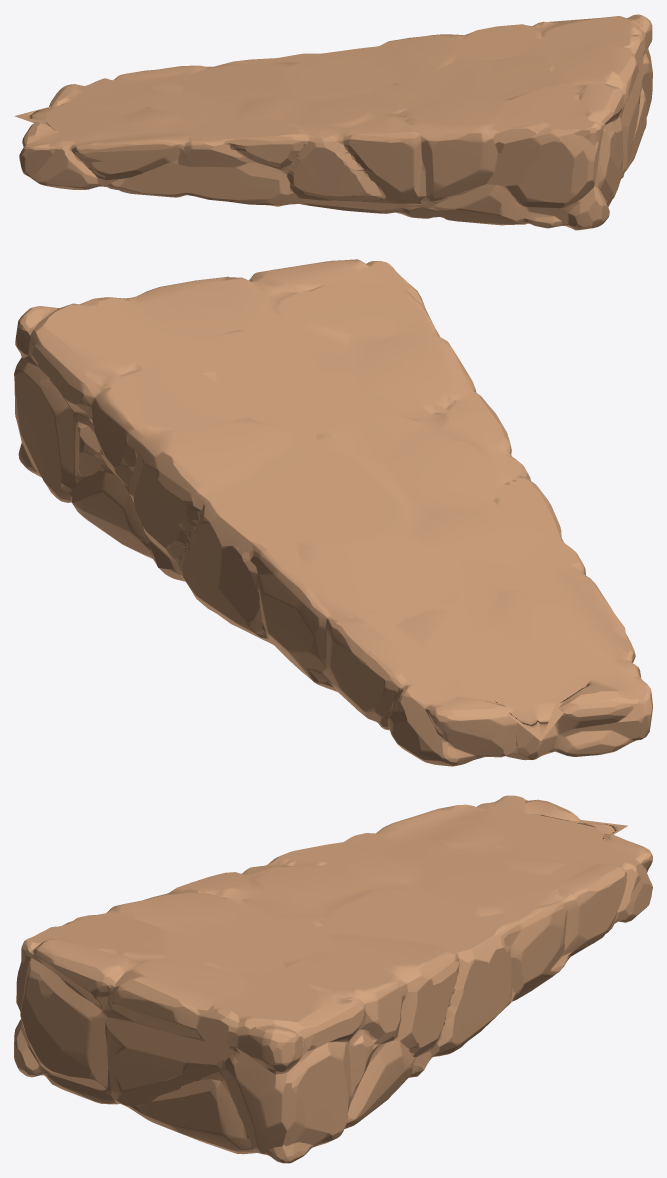
The picture shows the model from 3 angles, top to bottom: view 1: azimuth 30°, elevation 25°; view 2: azimuth 150°, elevation 25°; view 3: azimuth 270°, elevation 25°; orthographic projection. The views are drawn at different scales.
Parts seen in each view (by area): view 1: Mesh_24_LOD0; view 2: Mesh_24_LOD0; view 3: Mesh_24_LOD0.
Part boxes in pixels (box(x1,y1,x2,y2)): Mesh_24_LOD0: box(14, 14, 652, 230); Mesh_24_LOD0: box(14, 259, 652, 766); Mesh_24_LOD0: box(14, 795, 652, 1163).
Size of what is drawn, in the model's own units: 6806 by 1412 by 5487.
